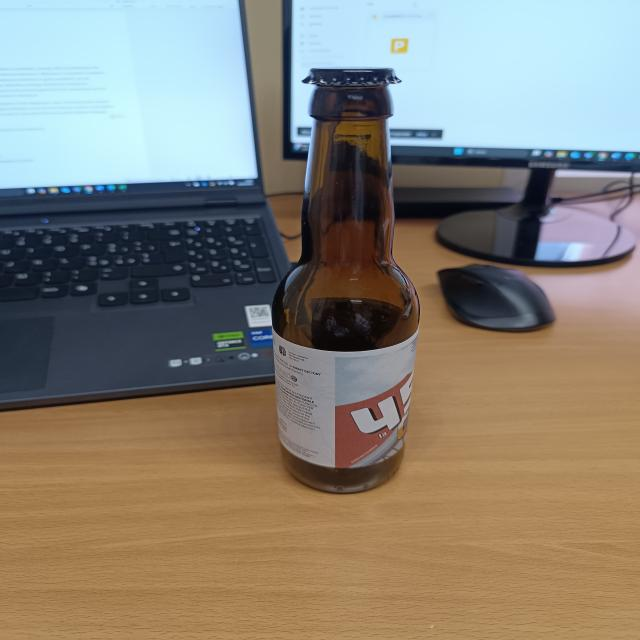Bottle: (272, 66, 414, 495)
Cap: (295, 64, 404, 94)
Label: (268, 328, 414, 471)
